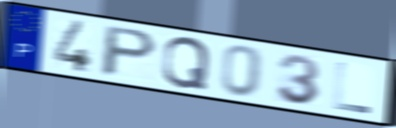0: (219, 44, 265, 99)
3: (275, 53, 323, 106)
4: (52, 18, 93, 74)
L: (332, 60, 373, 116)
P: (98, 24, 160, 79)
Q: (160, 35, 212, 92)
